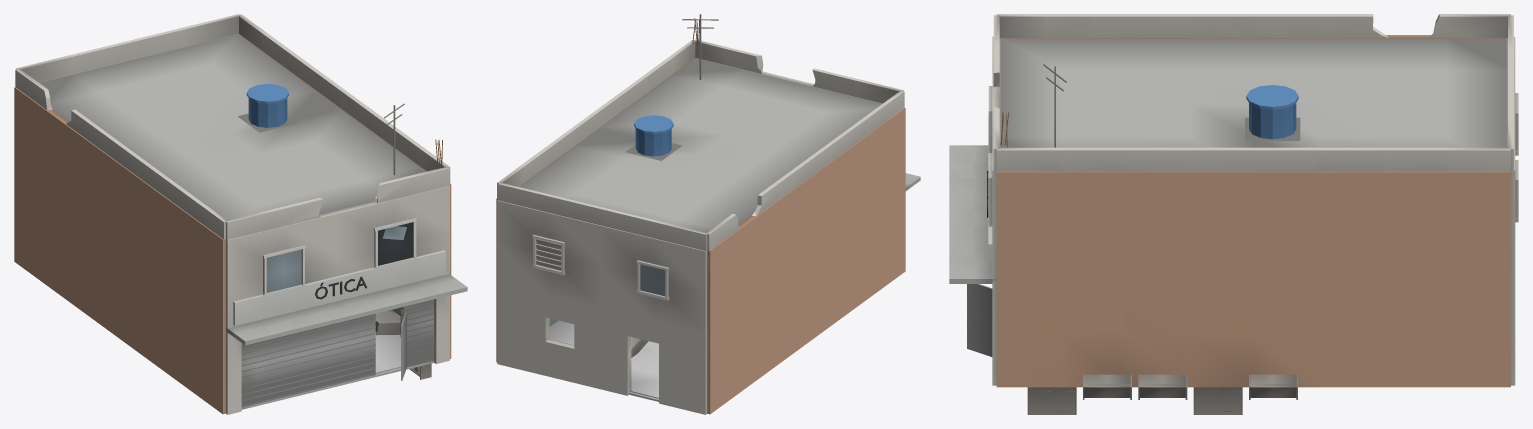
Rendered from sobrado_7.glb.
3 renders of one model, left to right at view 1: azimuth 30°, elevation 25°; view 2: azimuth 150°, elevation 25°; view 3: azimuth 270°, elevation 25°, orthographic. The views are drawn at different scales.
Visible parts, largest first — view 1: longe, ext, detalhe, dentro; view 2: ext, longe, detalhe, dentro; view 3: ext, longe, dentro, detalhe.
Part boxes in pixels (x1,y1,x2,y2): longe: (15,14,467,407); ext: (14,33,451,414); detalhe: (238,84,442,299); dentro: (241,307,434,409); ext: (496,58,905,414); longe: (497,39,920,250); detalhe: (532,14,718,300); dentro: (549,318,658,401); ext: (992,35,1515,387); longe: (949,14,1513,356); dentro: (1027,374,1297,414); detalhe: (987,64,1518,226).
Size of what is drawn, in the model's own units: 8.73 by 9.29 by 14.4.
